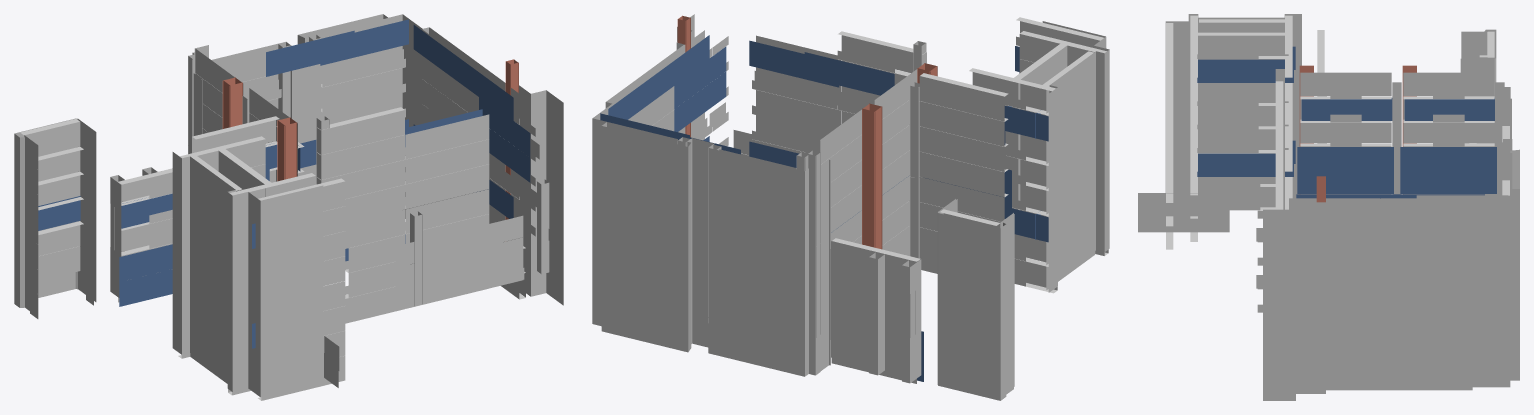
The model's file is policestation_construction.dae.
3 renders of one model, left to right at view 1: azimuth 30°, elevation 25°; view 2: azimuth 150°, elevation 25°; view 3: azimuth 270°, elevation 25°, orthographic. The views are drawn at different scales.
Visible parts, largest first — view 1: policestation_construction_a3000, Colmesh-1; view 2: Colmesh-1, policestation_construction_a3000; view 3: policestation_construction_a3000, Colmesh-1.
Part boxes in pixels (bbox=[...]): policestation_construction_a3000: bbox=[20, 14, 561, 400]; Colmesh-1: bbox=[14, 14, 563, 397]; Colmesh-1: bbox=[592, 14, 1109, 400]; policestation_construction_a3000: bbox=[594, 15, 1108, 394]; policestation_construction_a3000: bbox=[1138, 15, 1512, 389]; Colmesh-1: bbox=[1165, 14, 1519, 400].
Bounding box in the file's own units: 62.58 × 51.53 × 33.29.
